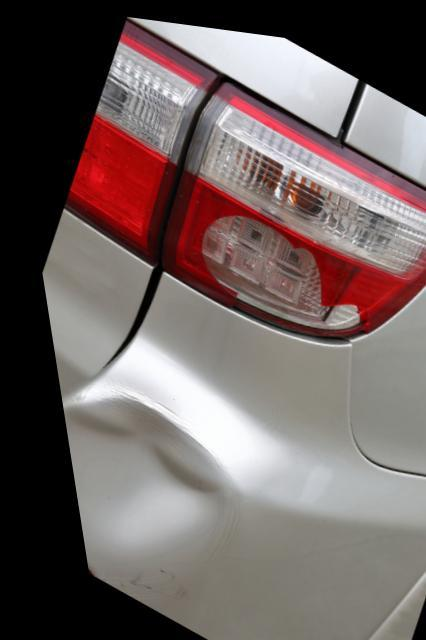dent: (50, 396, 215, 557)
lamp broken: (150, 71, 426, 332)
